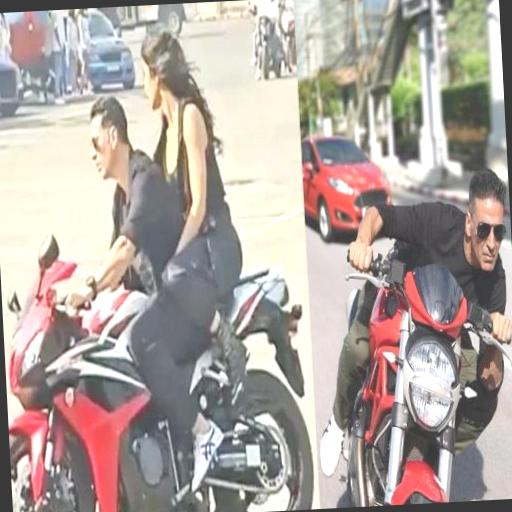no helmet: (329, 100, 512, 503), (65, 82, 146, 212)
